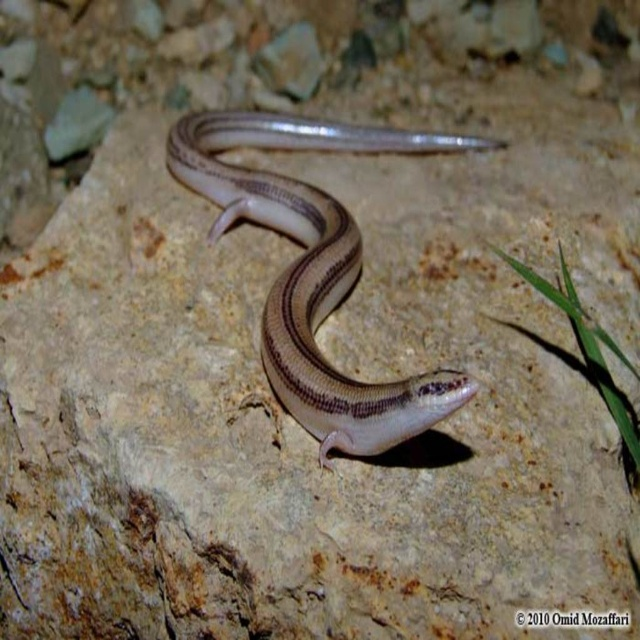Lizard: (166, 101, 507, 472)
